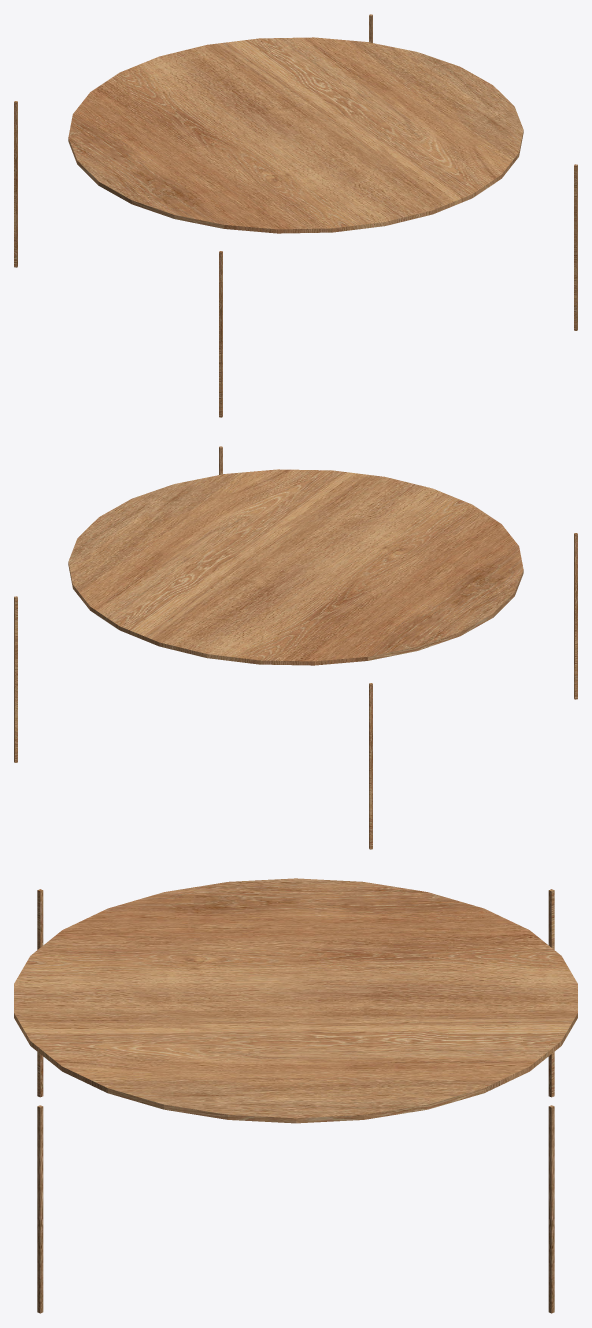
The model's file is 24275_gpt-only.glb.
3 views of the same model, one above another, from view 1: azimuth 30°, elevation 25°; view 2: azimuth 150°, elevation 25°; view 3: azimuth 270°, elevation 25° (orthographic). The views are drawn at different scales.
Parts seen in each view (by area): view 1: ParentEmpty; view 2: ParentEmpty; view 3: ParentEmpty.
Part boxes in pixels (x1,y1,x2,y2): ParentEmpty: (14,14,577,417); ParentEmpty: (14,446,577,849); ParentEmpty: (14,878,577,1313).
Size of the model in its own units: 1 by 0.4002 by 0.9927.
Materials: 1 (1 with a texture image).
